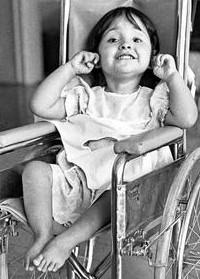Healthy: (96, 6, 158, 88)
